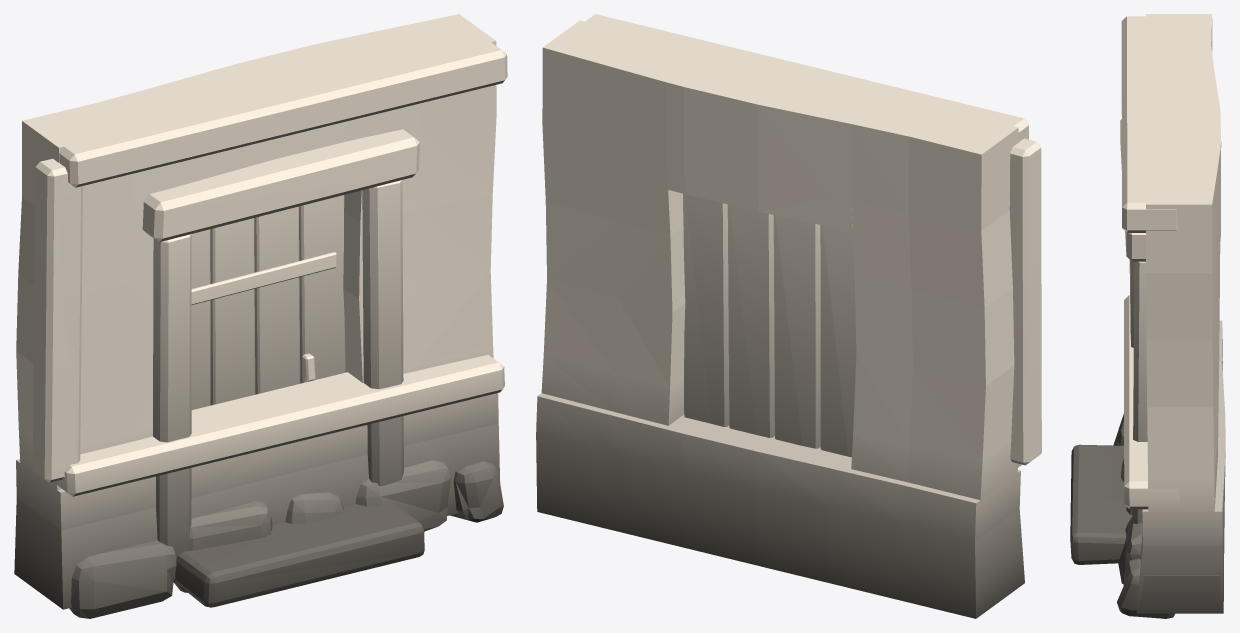
File: SM_VK_Wall_Plaster_Door.fbx
3 views of the same model, side by side, from view 1: azimuth 30°, elevation 25°; view 2: azimuth 150°, elevation 25°; view 3: azimuth 270°, elevation 25° (orthographic). The views are drawn at different scales.
Parts seen in each view (by area): view 1: SM_VK_Wall_Plaster_Door.001; view 2: SM_VK_Wall_Plaster_Door.001; view 3: SM_VK_Wall_Plaster_Door.001.
Part boxes in pixels (x1,y1,x2,y2): SM_VK_Wall_Plaster_Door.001: [14, 14, 507, 618]; SM_VK_Wall_Plaster_Door.001: [536, 14, 1041, 618]; SM_VK_Wall_Plaster_Door.001: [1070, 14, 1225, 618].
Bounding box in the file's own units: 3.13 × 3.11 × 1.03.
